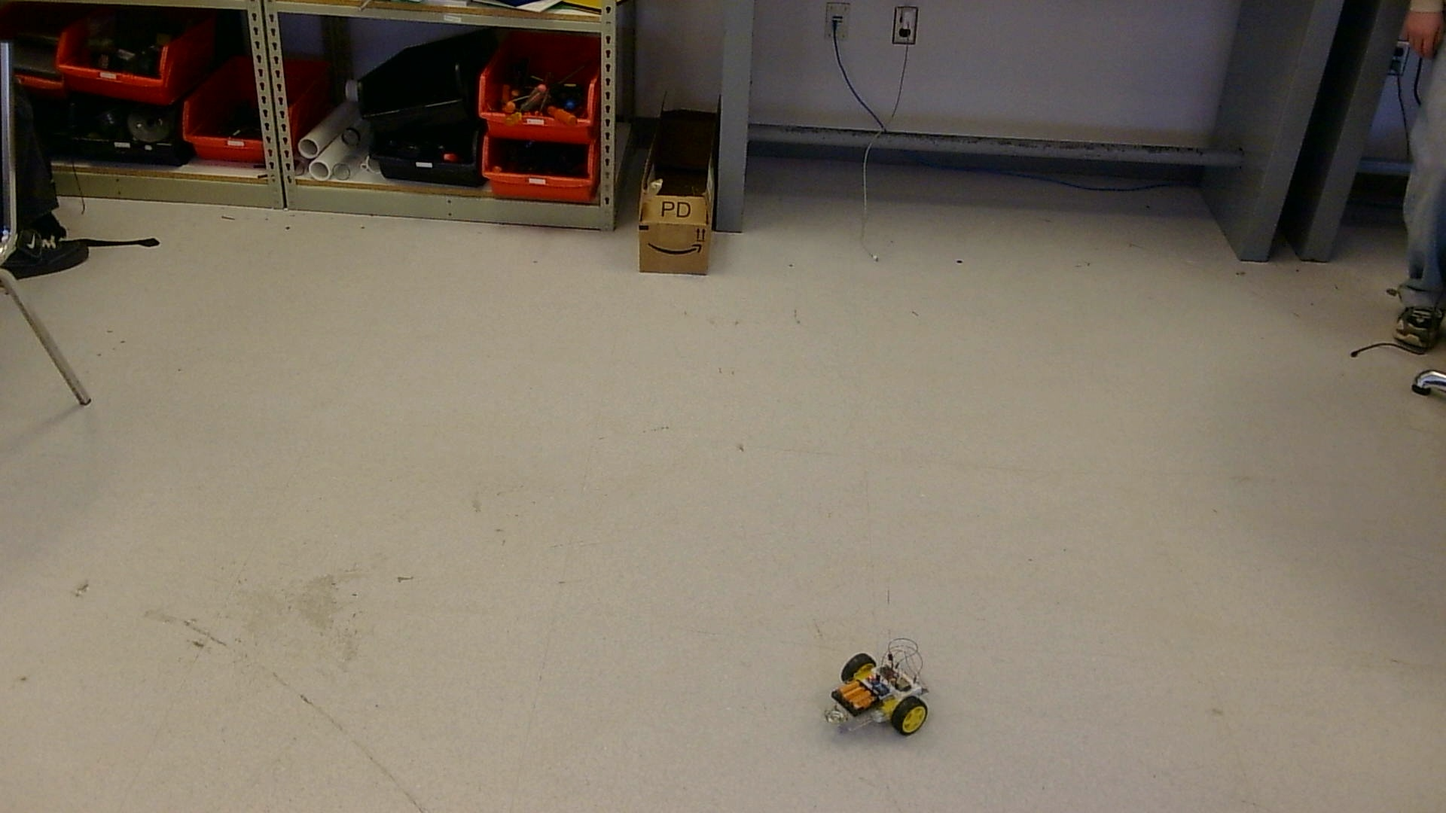robot: (824, 638, 929, 735)
